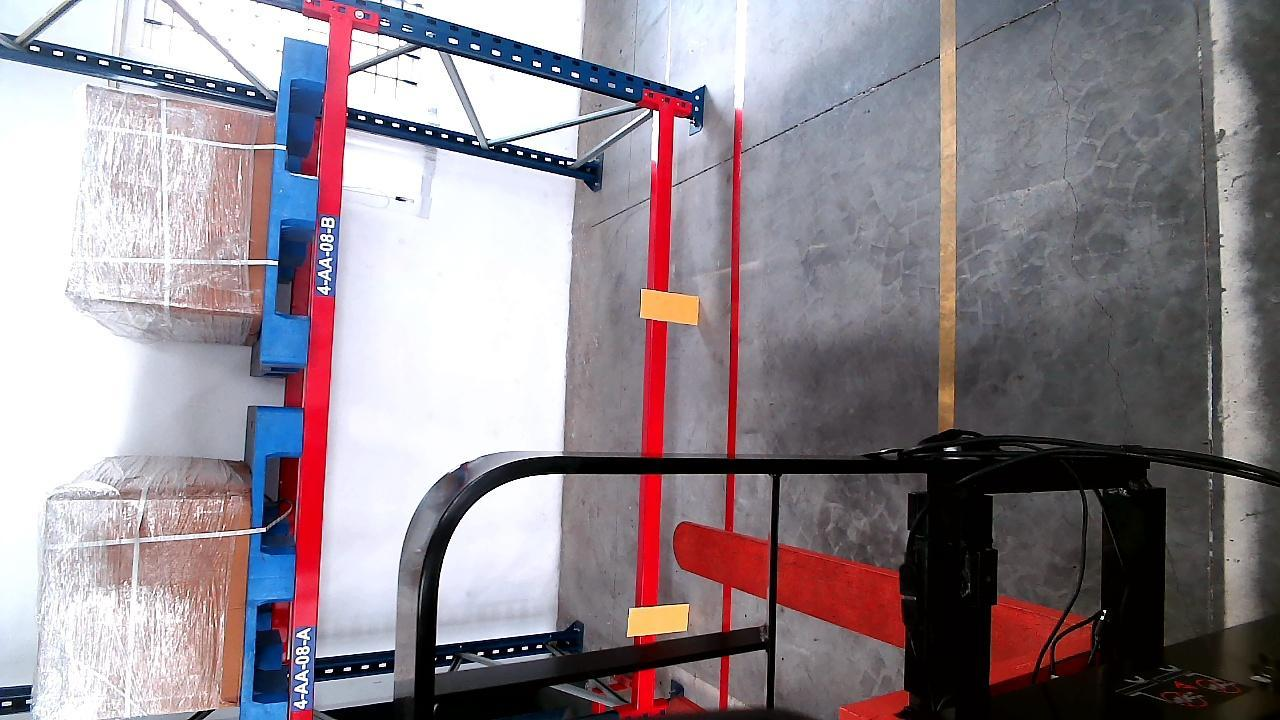red_line: (715, 1, 749, 710)
yellow_line: (937, 2, 960, 423)
